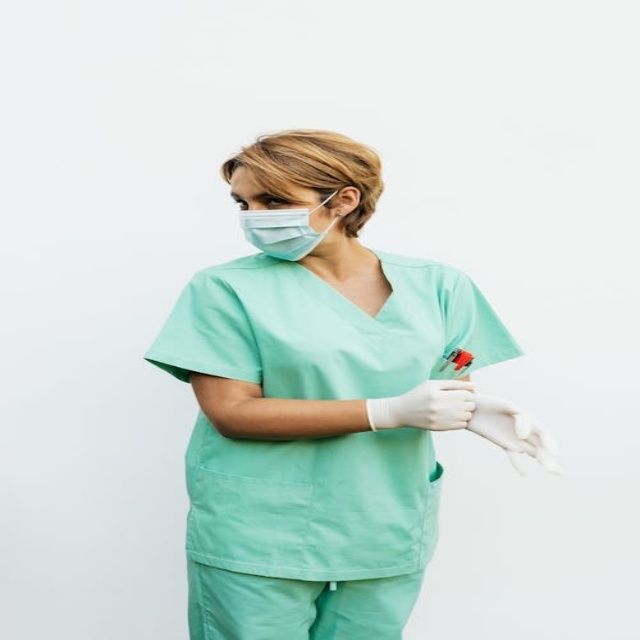Guantes: (456, 390, 563, 476), (365, 379, 478, 433)
Mascara: (239, 189, 343, 261)
Sin_gafas: (230, 187, 306, 209)
